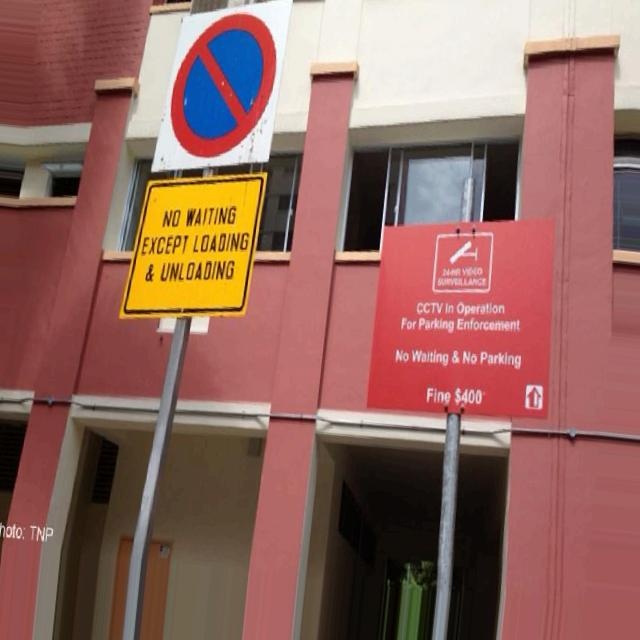forb_stopping: (169, 13, 276, 160)
